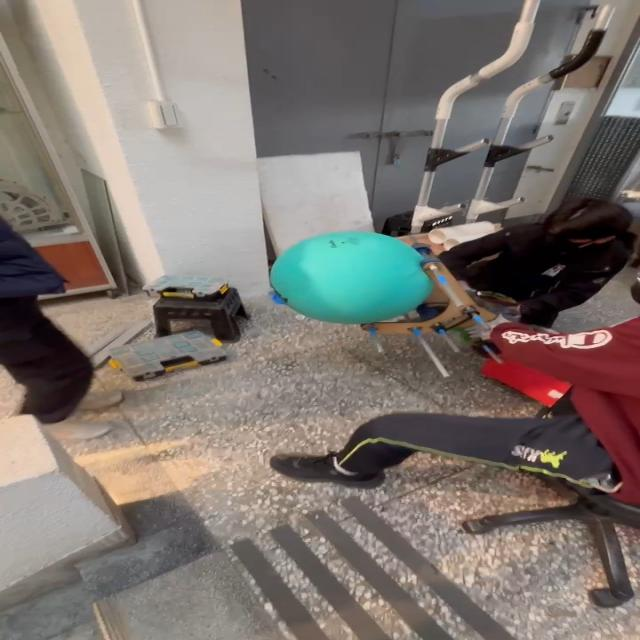ALGAE: (266, 230, 434, 326)
